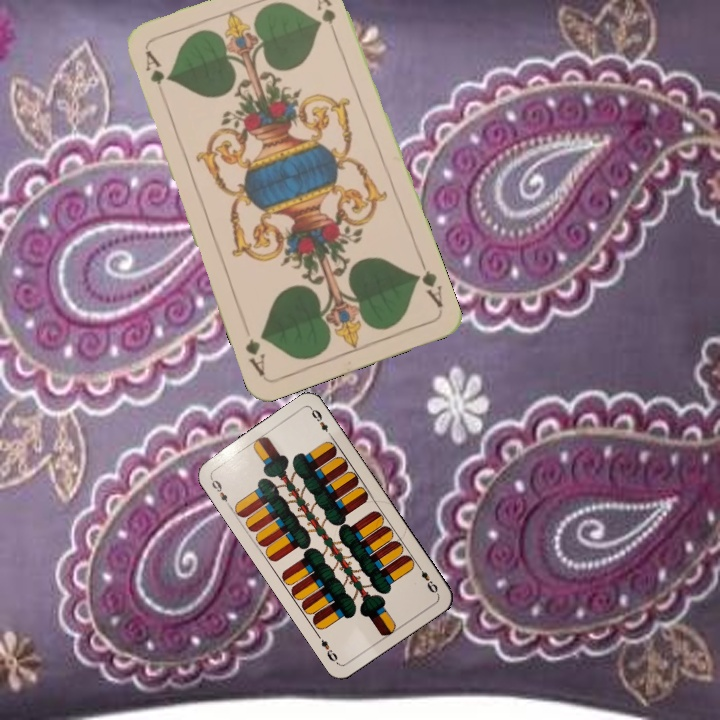E9: (206, 474, 233, 510), (414, 561, 441, 596)
GA: (410, 255, 446, 311), (141, 46, 167, 87)
